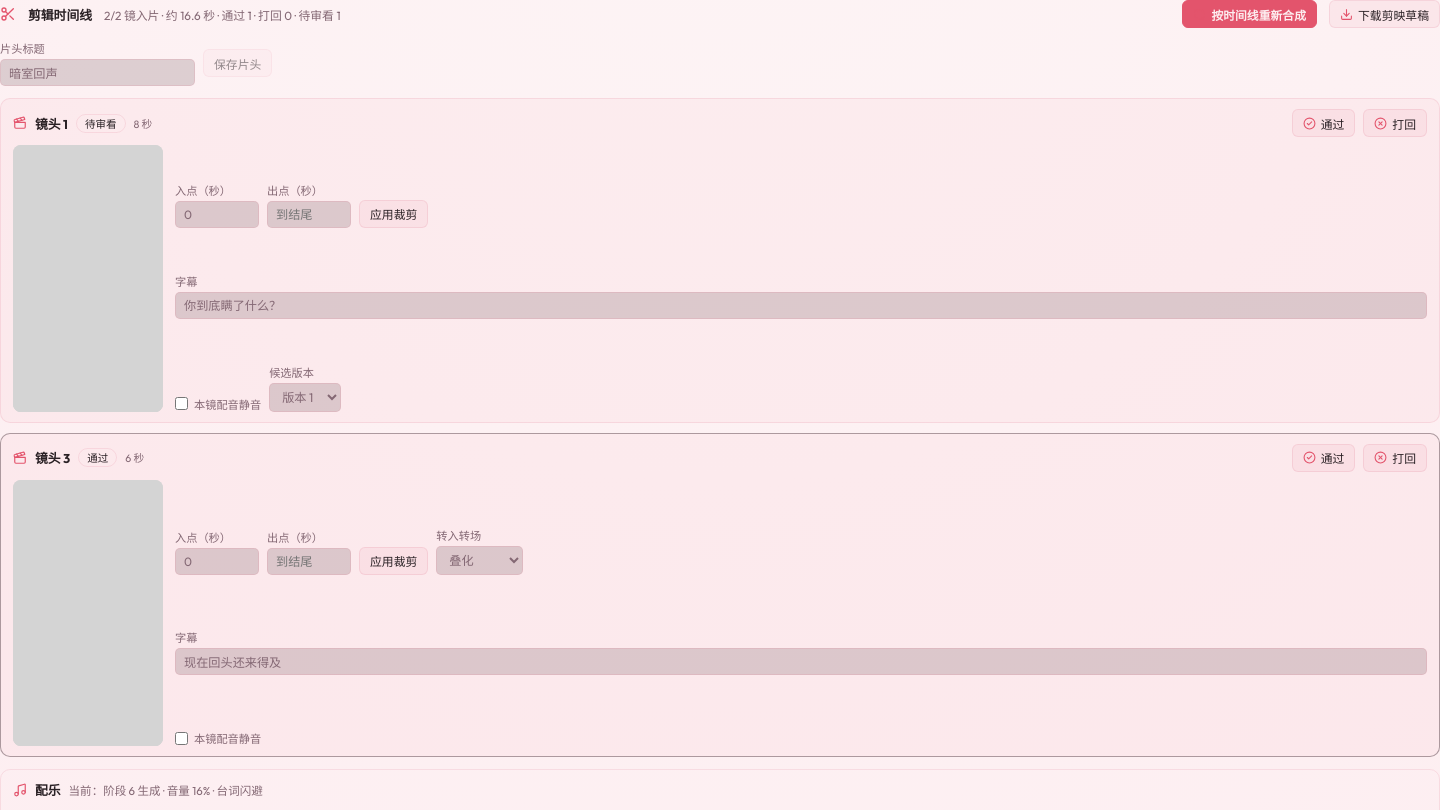
Test: TimelinePanel › shows the cut, applies a trim, reviews a clip, picks library music and renders
This screenshot has width=1440, height=810.
Check: the text "2/2 镜入片 · 约 16.6 秒 · 通过 1 · 打回 0 · 待审看 1" is shown, box [104,8,340,22]
Check: the button "通过" in the row of "8 秒" is shown, box [1292,109,1355,137]
Type "6" into the number field named "镜头 1 出点" at {"x": 309, "y": 214}, box [267,201,351,228]
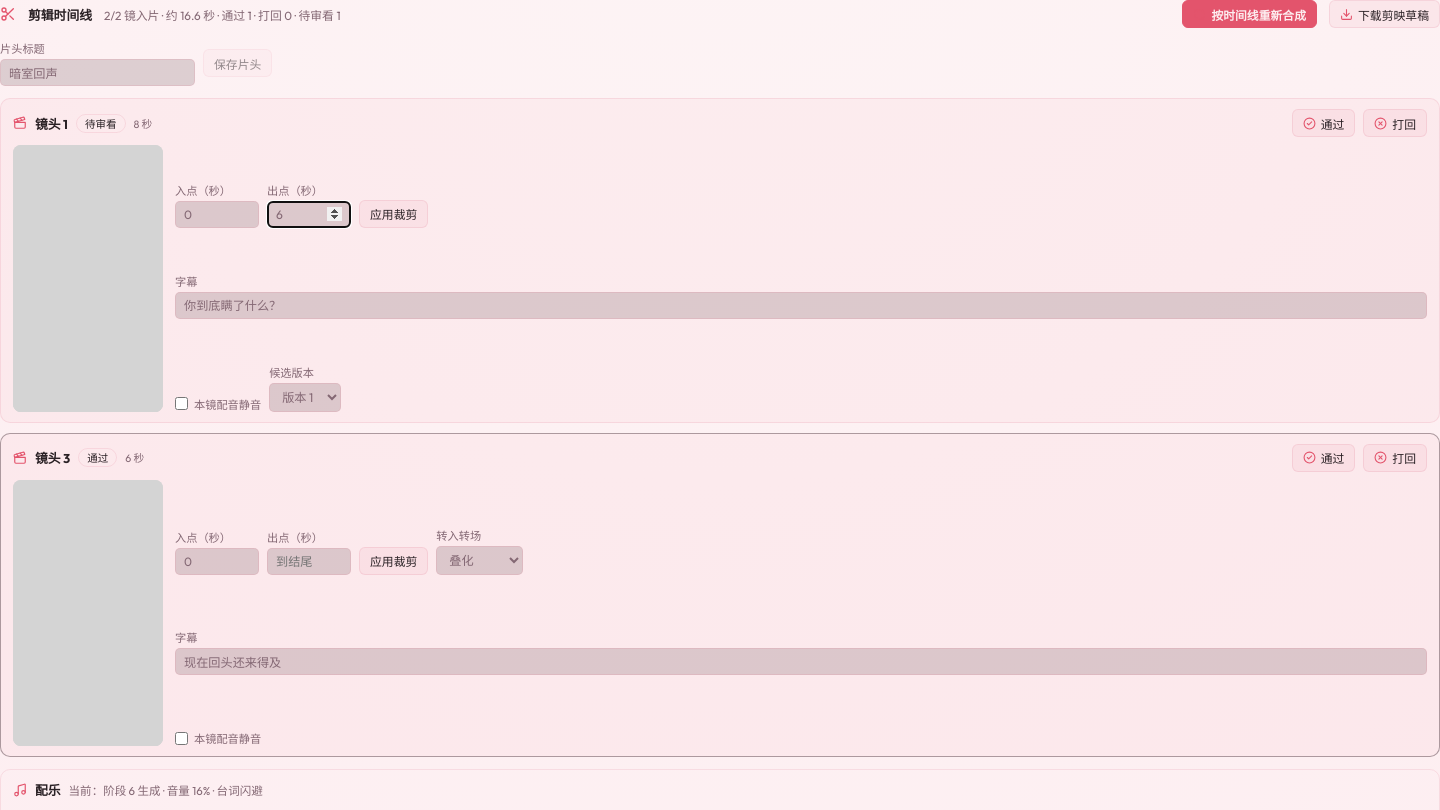
Click the button "应用裁剪" below "8 秒" at {"x": 394, "y": 214}, box [359,200,428,228]
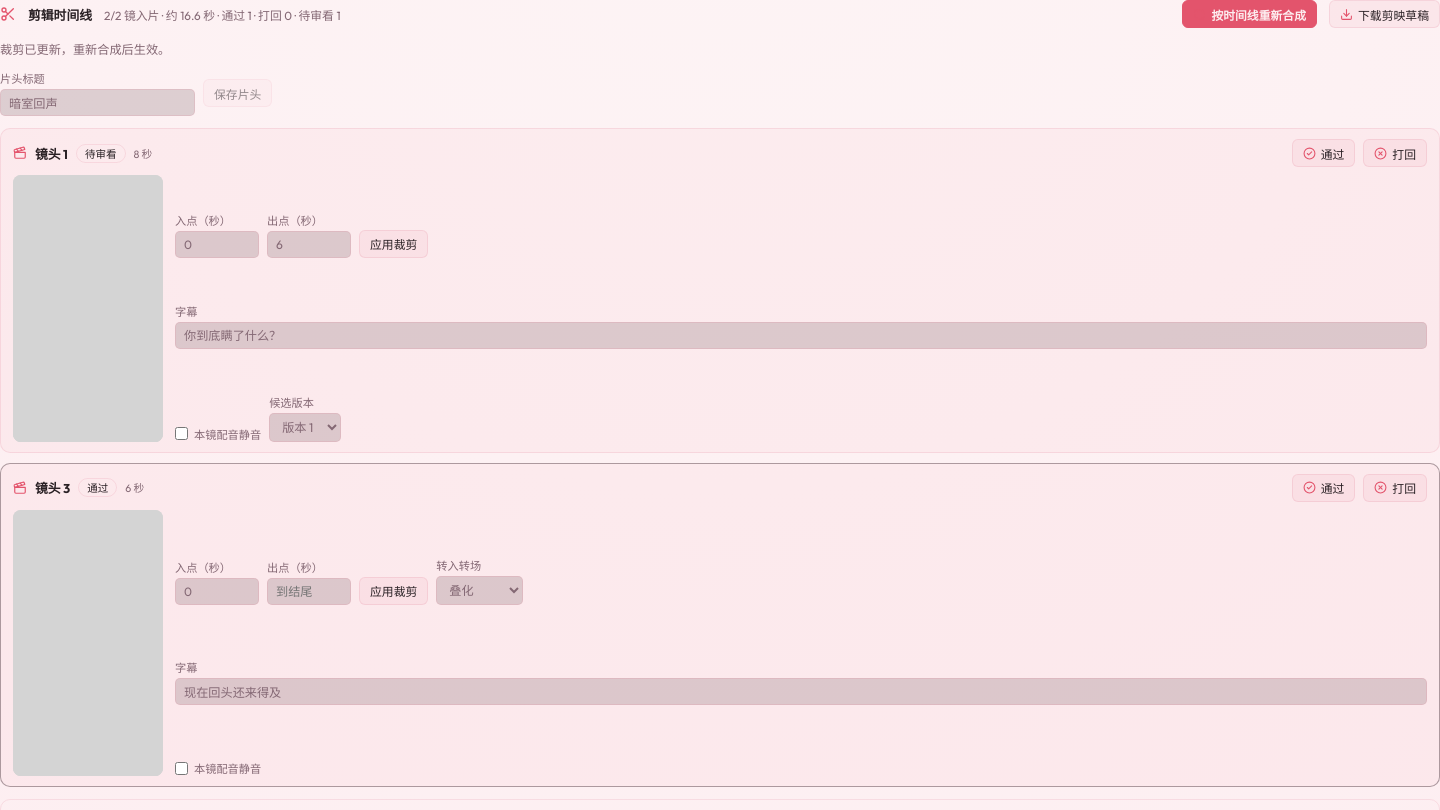
Click the button with aria-label "打回镜头 3" at {"x": 1395, "y": 488}, box [1363,474,1427,502]
(page scrolled)
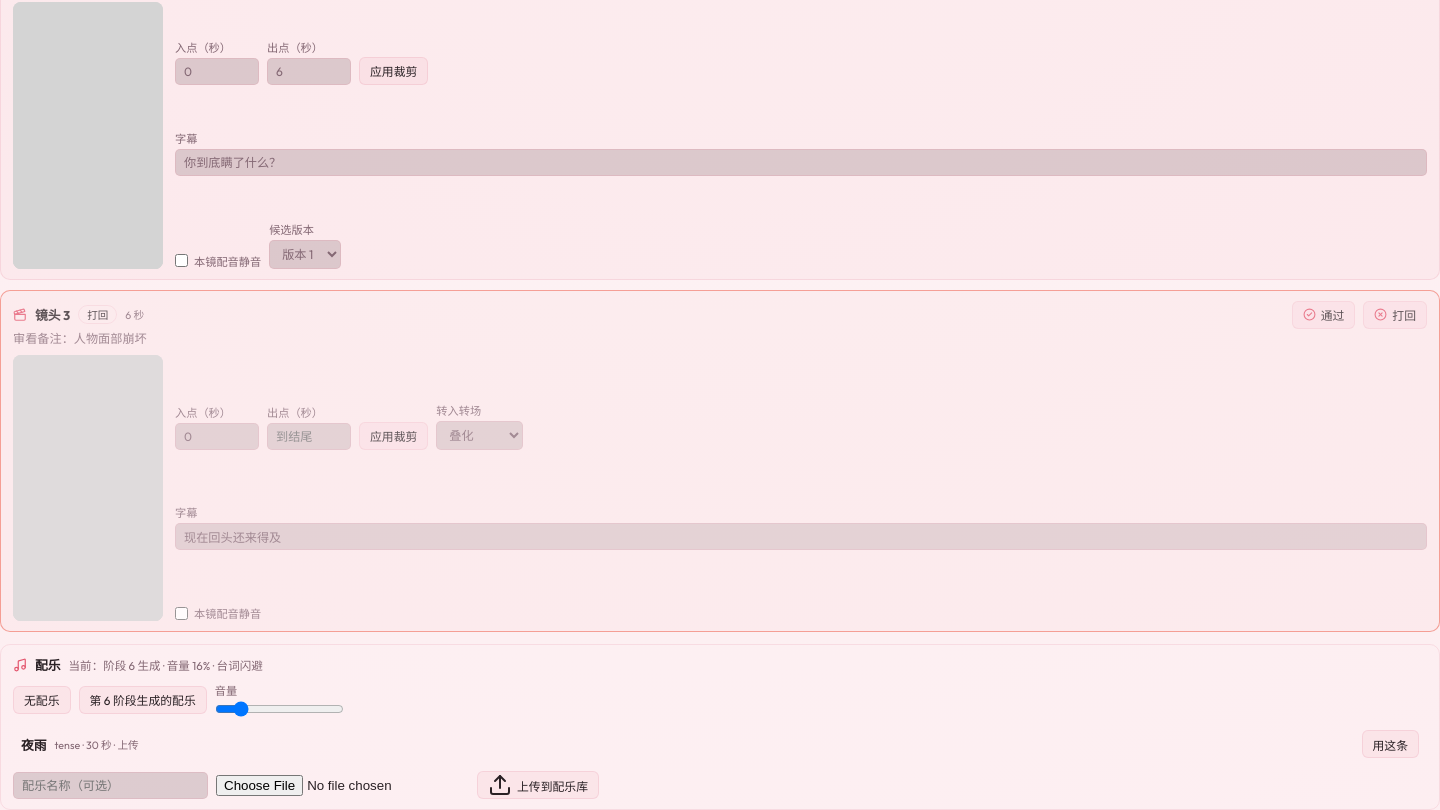
Check: the text "审看备注：人物面部崩坏" is shown, box [13,331,147,346]
Click the button "用这条" at {"x": 1390, "y": 744}, box [1362,730,1419,758]
(page scrolled)
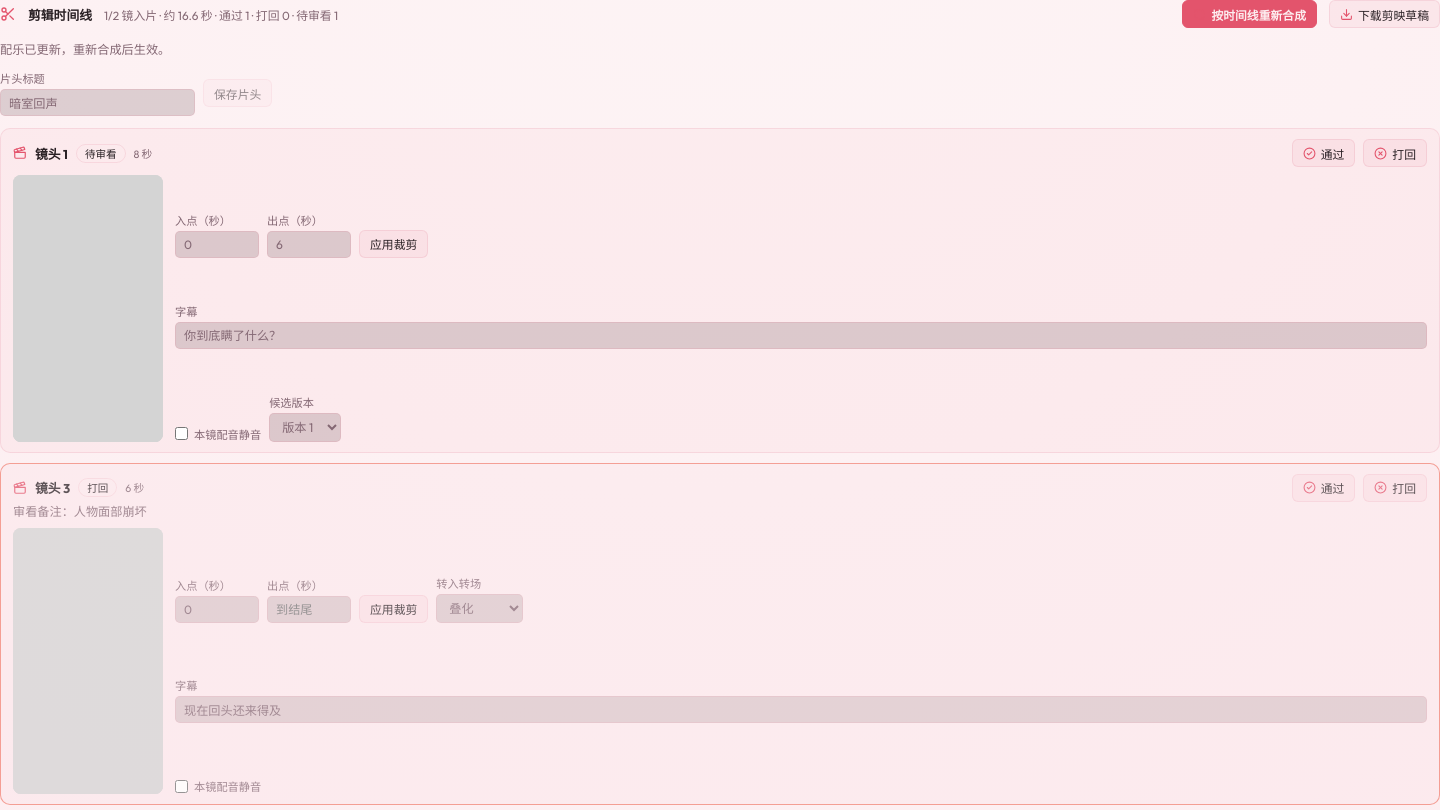
Click the button "按时间线重新合成" at {"x": 1250, "y": 14}, box [1182,0,1317,28]
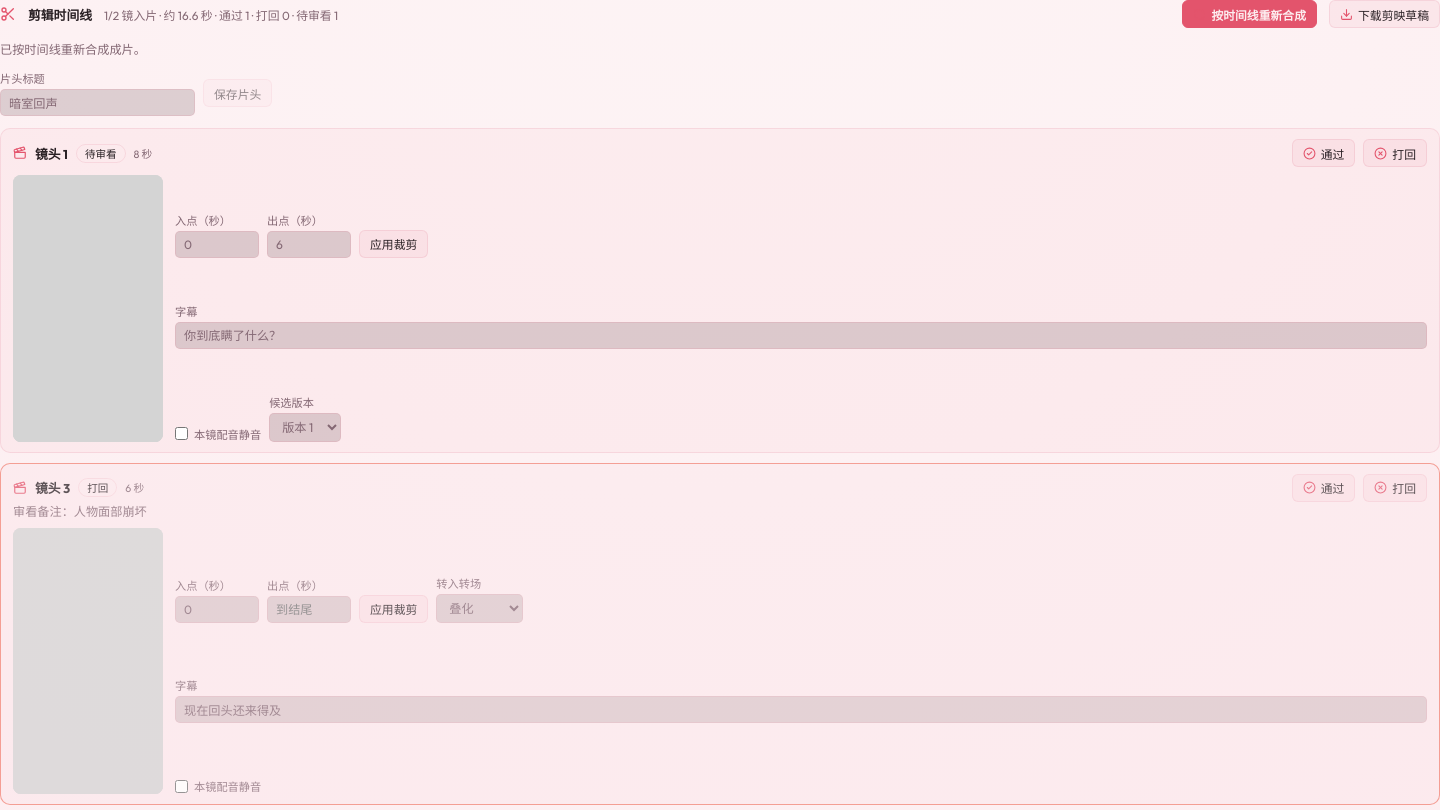
Check: the text "已按时间线重新合成成片。" is shown, box [0,42,146,57]
